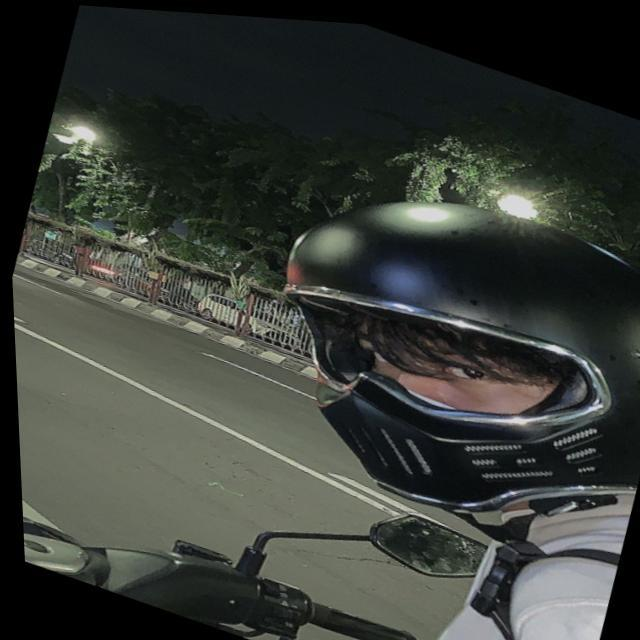Helmet: (269, 181, 640, 518)
